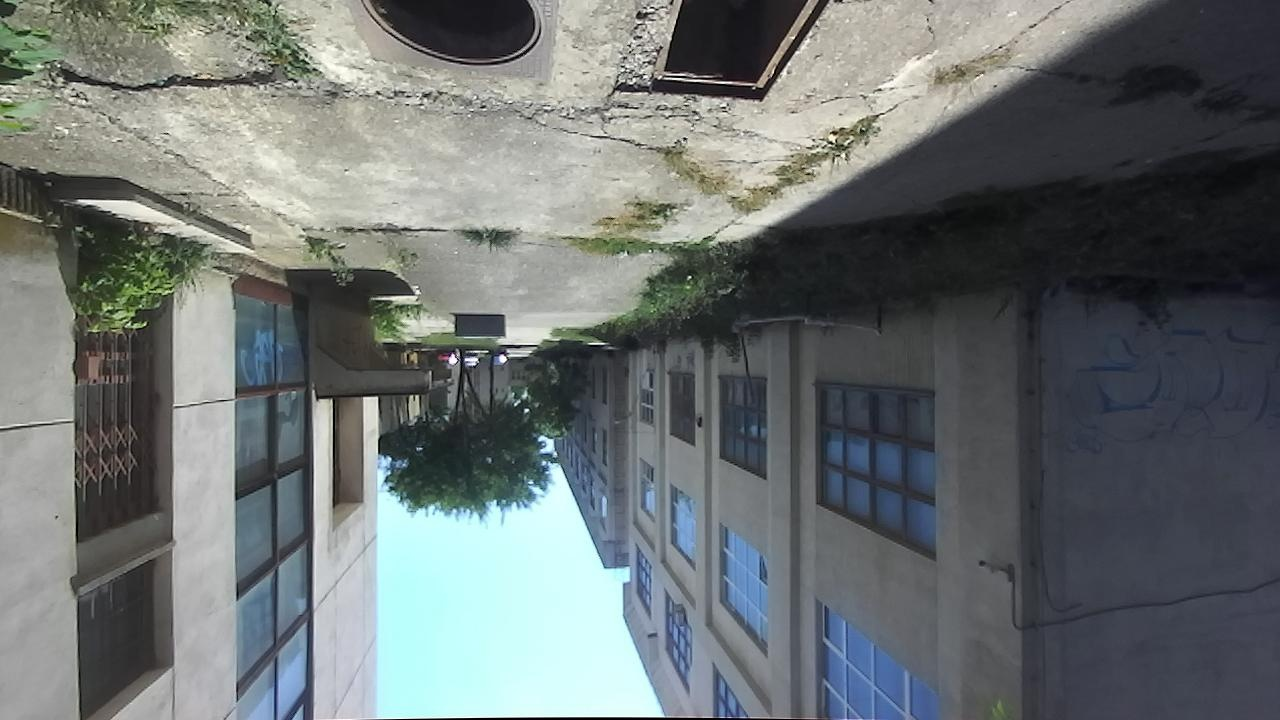drain: (649, 0, 834, 106), (356, 0, 549, 72)
